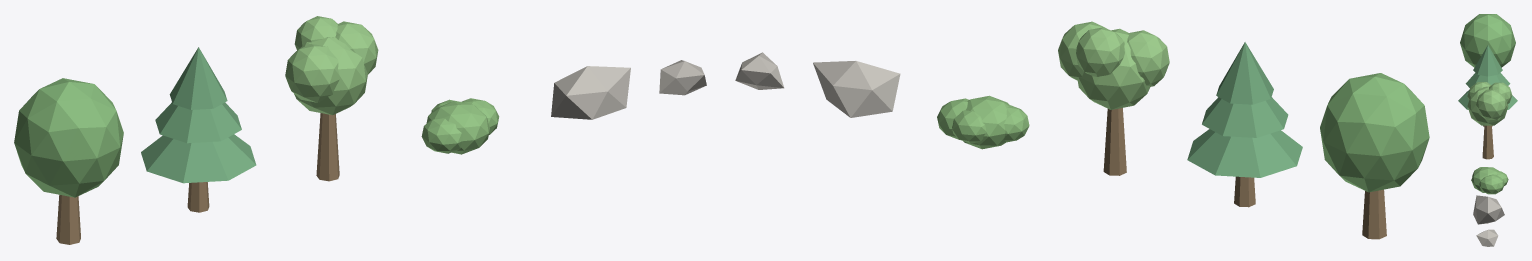
The model's file is treepatch.glb.
3 views of the same model, side by side, from view 1: azimuth 30°, elevation 25°; view 2: azimuth 150°, elevation 25°; view 3: azimuth 270°, elevation 25° (orthographic). The views are drawn at different scales.
Parts seen in each view (by area): view 1: Tree_Round, Tree_Pine, Tree_Cluster, Rock_A, Bush, Rock_B; view 2: Tree_Round, Tree_Pine, Tree_Cluster, Rock_A, Bush, Rock_B; view 3: Tree_Round, Tree_Cluster, Tree_Pine, Bush, Rock_A, Rock_B.
Boxes of the visible parts, x1,y1,x2,y2 form: Tree_Round: (14, 78, 123, 244); Tree_Pine: (141, 47, 256, 212); Tree_Cluster: (285, 16, 378, 181); Rock_A: (551, 66, 630, 119); Bush: (421, 98, 499, 154); Rock_B: (659, 60, 706, 95); Tree_Round: (1320, 73, 1429, 239); Tree_Pine: (1187, 42, 1302, 207); Tree_Cluster: (1058, 21, 1169, 175); Rock_A: (813, 61, 900, 117); Bush: (937, 95, 1029, 149); Rock_B: (735, 52, 784, 89); Tree_Round: (1460, 14, 1515, 67); Tree_Cluster: (1467, 82, 1512, 159); Tree_Pine: (1458, 45, 1517, 126); Bush: (1471, 167, 1508, 194); Rock_A: (1473, 195, 1504, 224); Rock_B: (1476, 229, 1498, 246).
Size of the model in its own units: 20.97 by 4.94 by 3.2.
